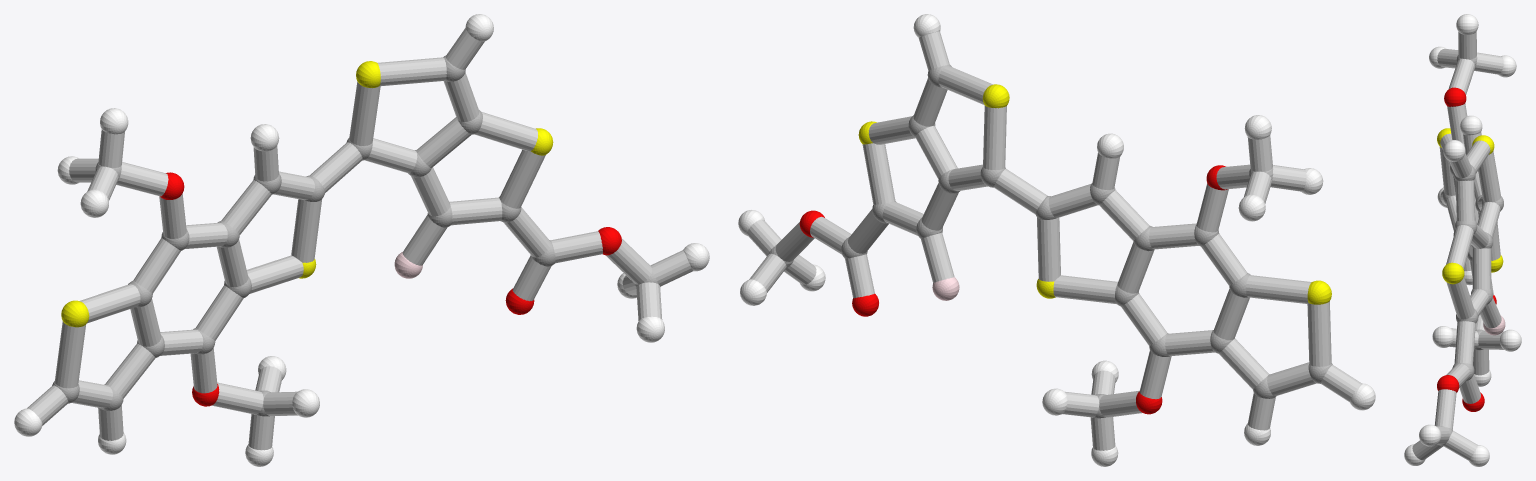
File: color.glb
3 views of the same model, side by side, from view 1: azimuth 30°, elevation 25°; view 2: azimuth 150°, elevation 25°; view 3: azimuth 270°, elevation 25° (orthographic). The views are drawn at different scales.
Parts seen in each view (by area): view 1: grp15205, grp8689, grp1, grp7241, grp13395; view 2: grp15205, grp8689, grp1, grp7241, grp13395; view 3: grp15205, grp8689, grp1, grp13395, grp7241, grp14843.
Boxes of the visible parts, x1,y1,x2,y2 form: grp15205: (27,28,692,450); grp8689: (14,14,709,466); grp1: (52,55,658,416); grp7241: (61,61,553,327); grp13395: (160,172,621,406); grp15205: (747,31,1361,450); grp8689: (738,14,1375,466); grp1: (768,64,1332,418); grp7241: (858,84,1331,304); grp13395: (799,165,1227,414); grp15205: (1412,31,1503,460); grp8689: (1404,14,1521,466); grp1: (1438,55,1503,446); grp13395: (1437,87,1496,411); grp7241: (1437,128,1503,284); grp14843: (1483,315,1505,335).
Bounding box in the file's own units: 16.48 × 9.56 × 3.16.
